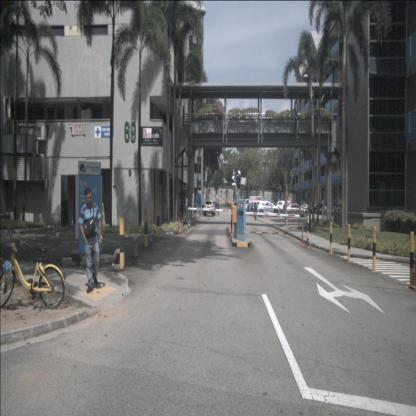human-pedestrian-adult: (78, 188, 103, 294), (253, 202, 258, 221), (180, 204, 184, 223), (216, 199, 220, 217)
movable_object-trafficcone: (408, 240, 416, 291), (301, 224, 304, 246), (177, 218, 180, 236), (181, 218, 184, 235)
vehicle-bicycle: (0, 227, 66, 310)
vehicle-car: (256, 200, 280, 218), (286, 203, 308, 219), (276, 200, 295, 213), (203, 200, 216, 216)
vehicle-truck: (243, 196, 262, 212)
